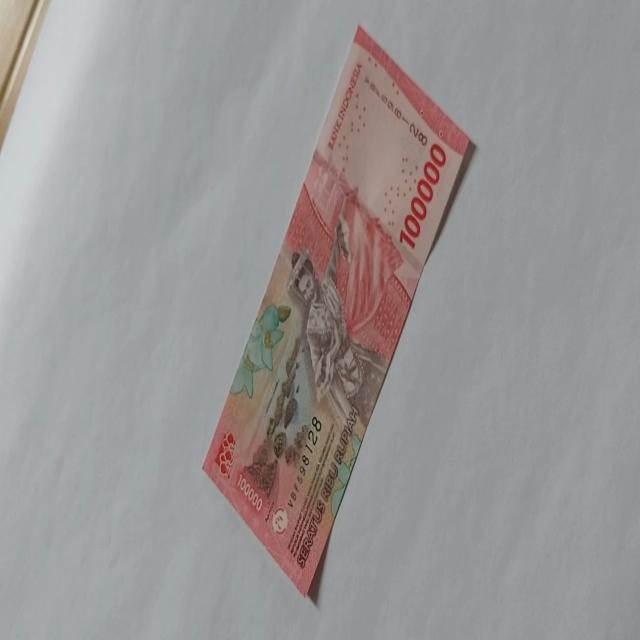seratus ribu rupiah: (201, 24, 474, 598)
